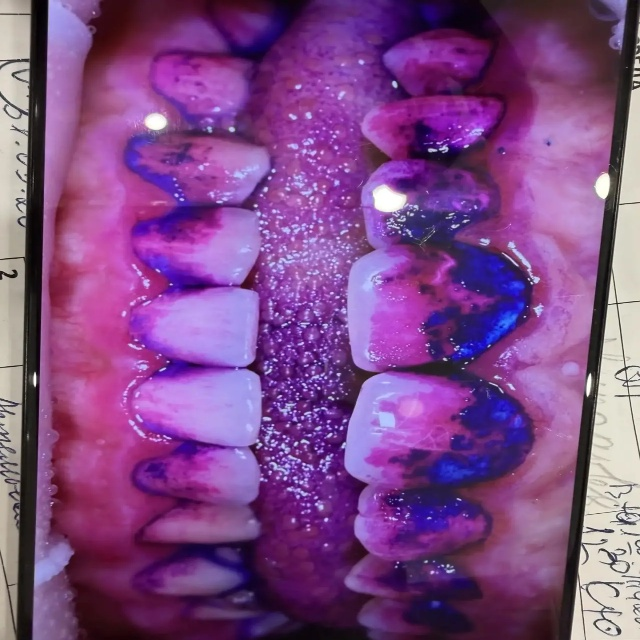plaque: (32, 0, 614, 640), (585, 0, 628, 52)
